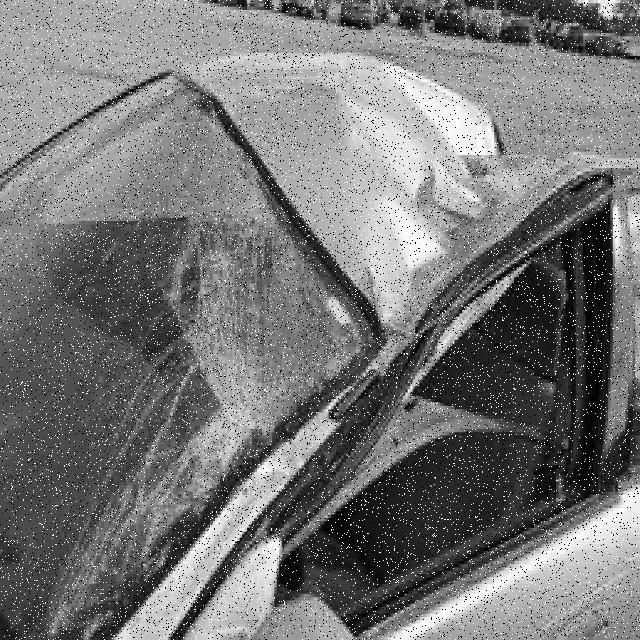Front-windscreen-damage: (0, 84, 210, 625)
roof-dent: (231, 71, 584, 279)
